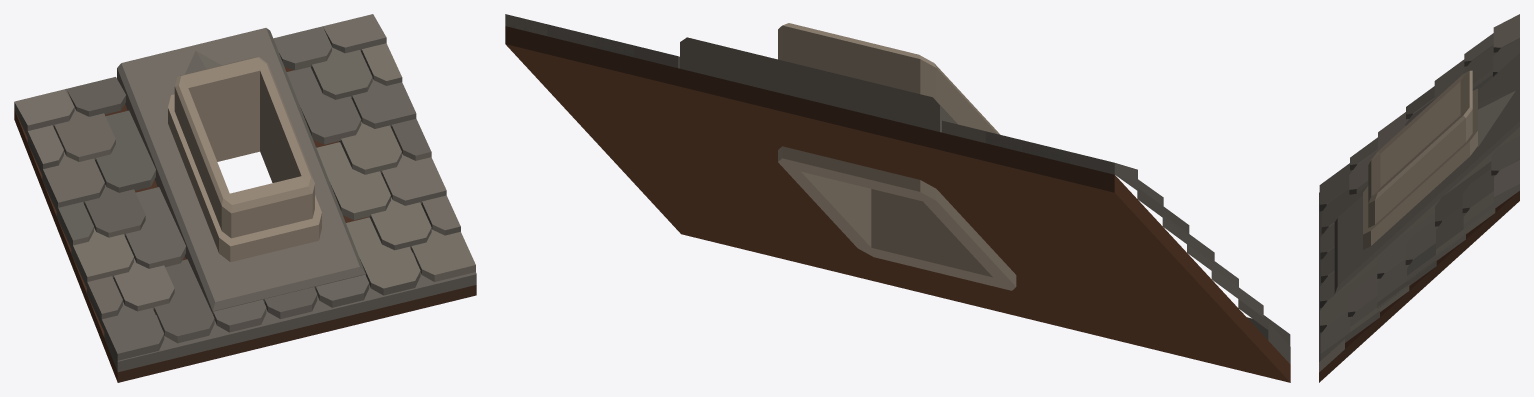
Rendered from chimney-roof-passage-90dedd.glb.
The picture shows the model from 3 angles, left to right: view 1: azimuth 30°, elevation 25°; view 2: azimuth 150°, elevation 25°; view 3: azimuth 270°, elevation 25°; orthographic projection. The views are drawn at different scales.
Parts seen in each view (by area): view 1: roof-passage-body; view 2: roof-passage-body; view 3: roof-passage-body.
Boxes of the visible parts, x1,y1,x2,y2 form: roof-passage-body: (14,14,476,382); roof-passage-body: (505,14,1290,382); roof-passage-body: (1319,14,1519,382).
Size of the model in its own units: 3 by 1.74 by 1.5.
